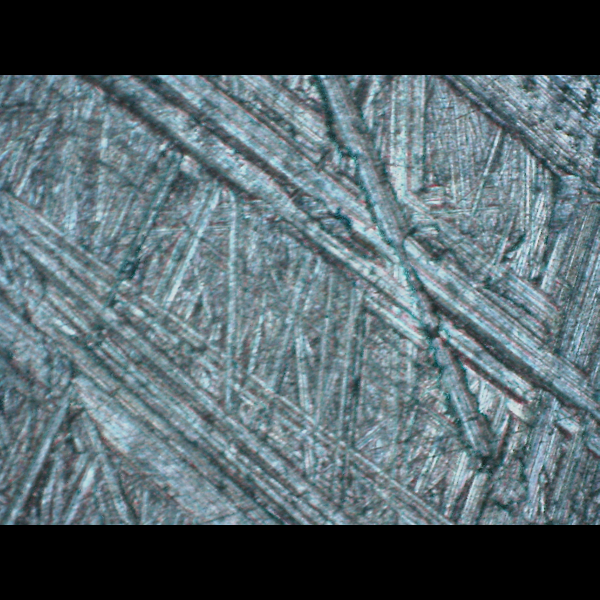d: (46, 75, 599, 418), (0, 181, 448, 525), (435, 75, 599, 207)
